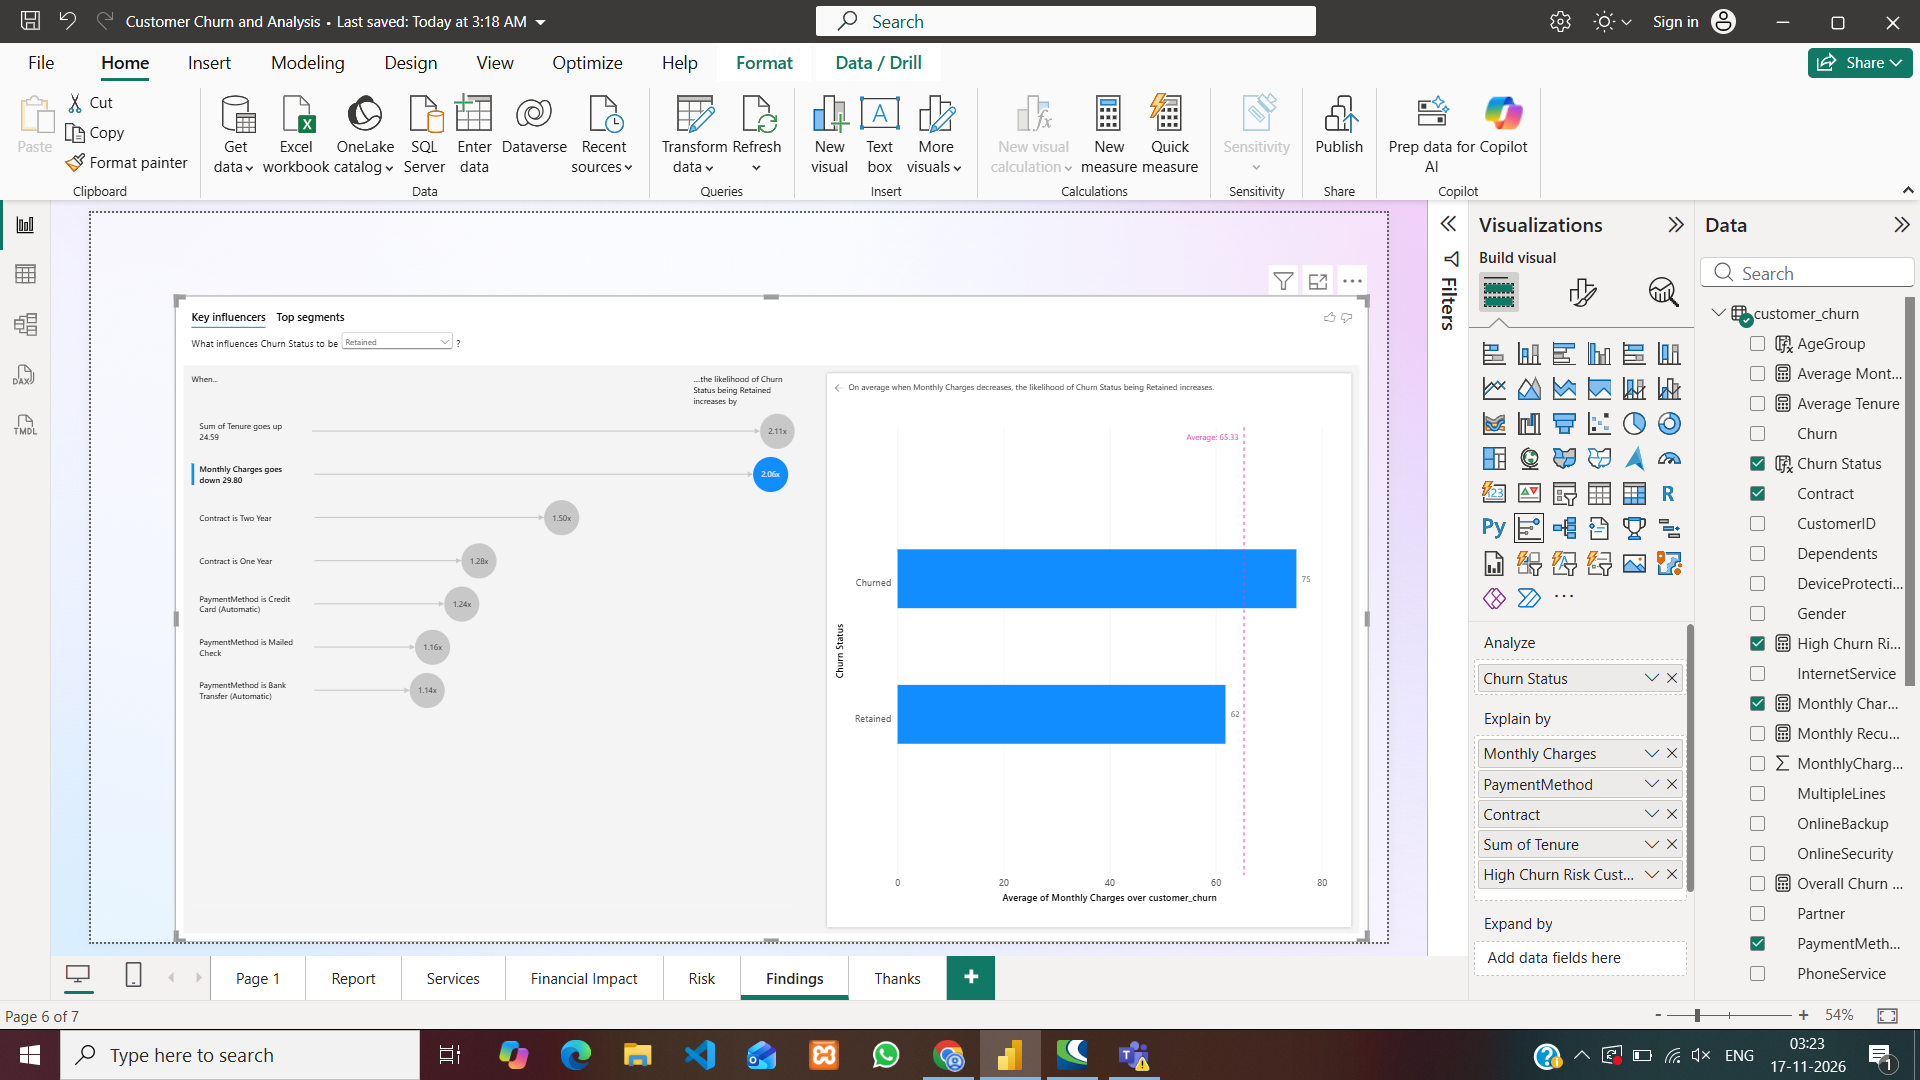

Layout of this report page (visuals, bound fields, positions):
{"tool":"powerbi","page":{"name":"Findings","canvas":[1920,1080],"ordinal":5},"visuals":[{"type":"keyDriversVisual","fields":{"ExplainBy":["customer_churn.Monthly Charges","customer_churn.PaymentMethod","customer_churn.Contract","Sum(customer_churn.Tenure)","customer_churn.High Churn Risk Customer"],"Target":["customer_churn.Churn Status"]},"box":[124.9,123.1,1768,957.3],"z":0}]}

Visuals, with their boxes on the page's 1920x1080 design canvas (x1, y1, x2, y2). These are canvas units, not pixel positions in the 1920x1080 screenshot, which may show the page scaled, cropped or inside an application window:
keyDriversVisual - customer_churn.Monthly Charges x customer_churn.PaymentMethod: x1=125 y1=123 x2=1893 y2=1080
